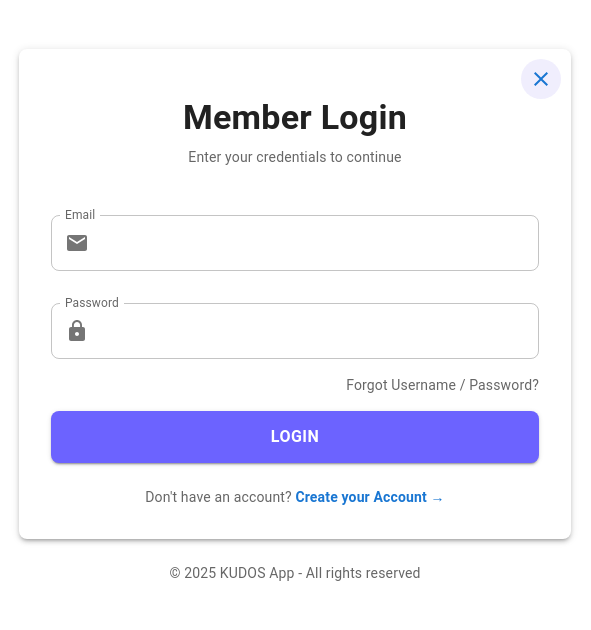
Test: LoginPage Integration Tests › Error Handling › should display error message on invalid credentials
The image size is (591, 630).
// Fill in login form
Type "test@example.com" into the field labelled "Email". click: (318,243)
box: [97,215,539,271]
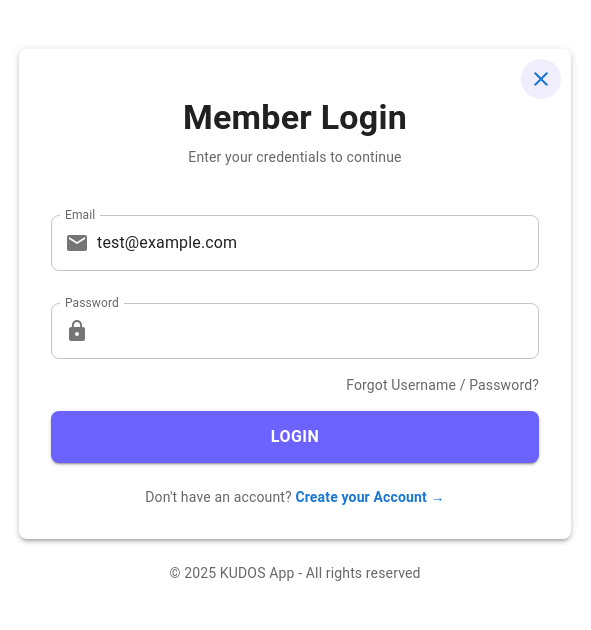
Type "wrongpassword" into the password field labelled "Password". click: (318,331)
box: [97,303,539,359]
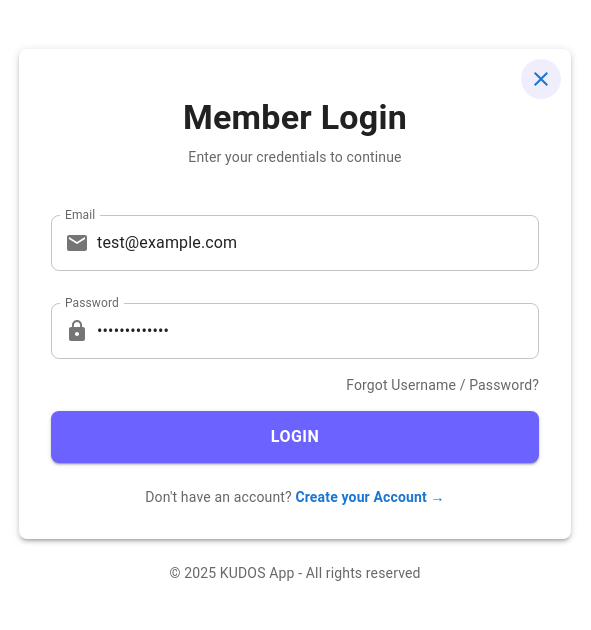
// Submit form
Click the button "Login". click: (295,437)
box: [51,411,539,463]
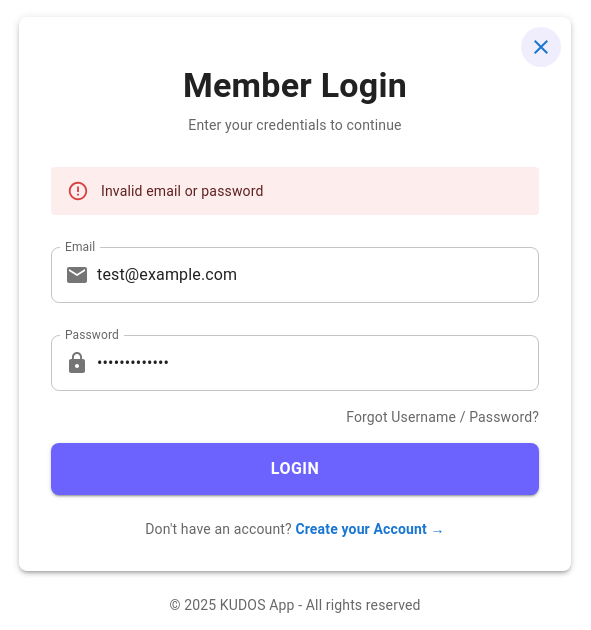
Check: the message with test id "login-form-error" reads "Invalid email or password", box [101,183,264,199]
